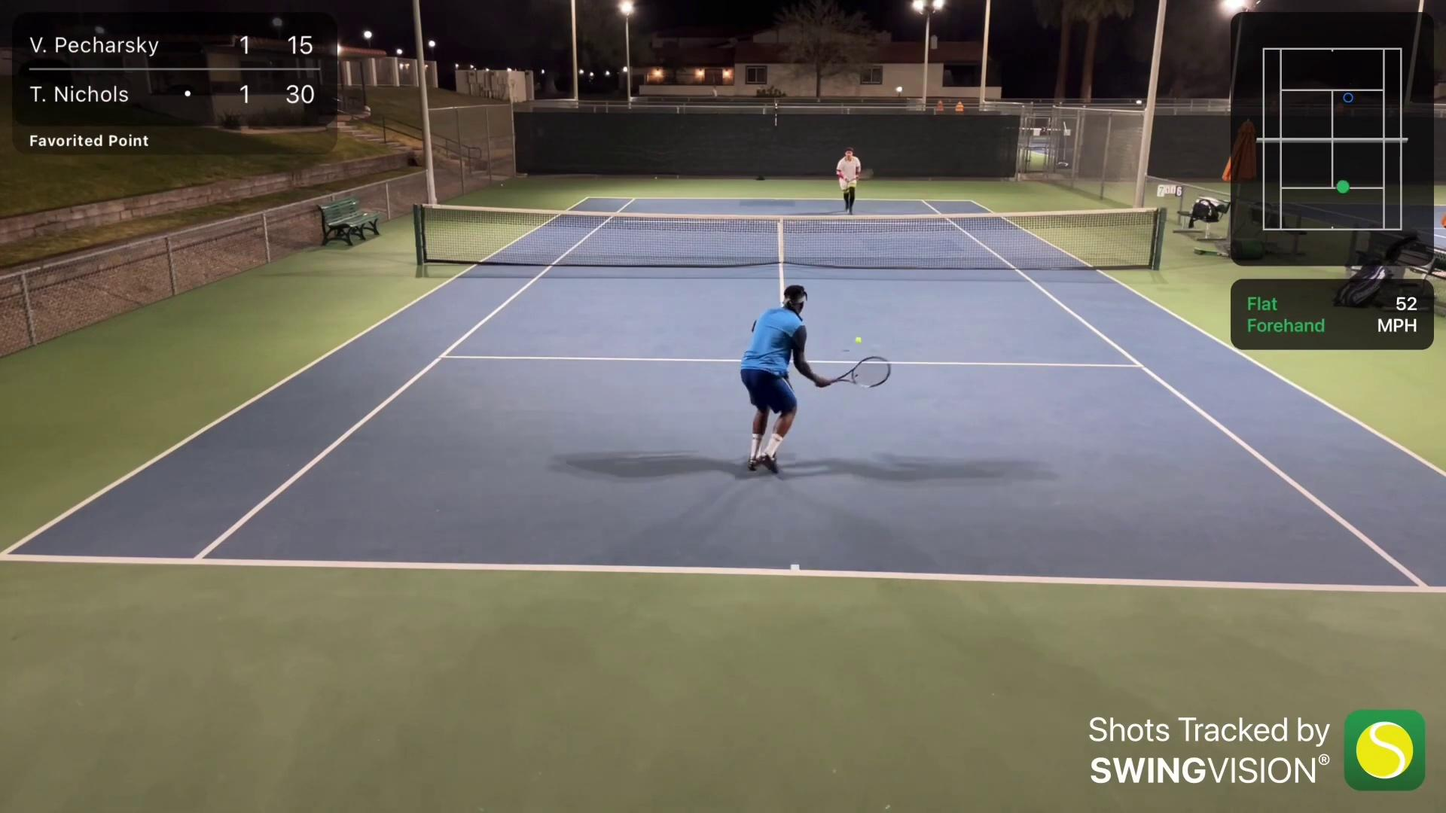ball: (854, 335, 862, 344)
